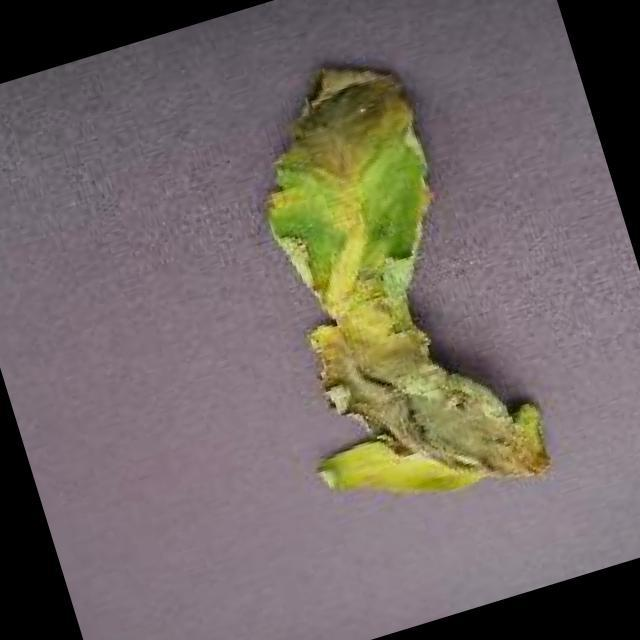Tomato late blight leaf: (200, 32, 558, 540)
